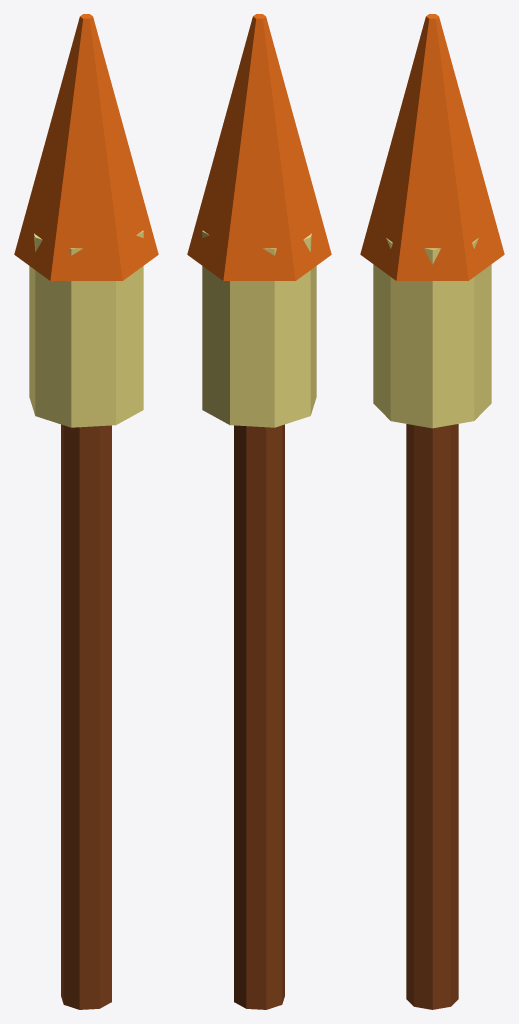
The model's file is torch.fbx.
3 renders of one model, left to right at view 1: azimuth 30°, elevation 25°; view 2: azimuth 150°, elevation 25°; view 3: azimuth 270°, elevation 25°, orthographic.
Parts seen in each view (by area): view 1: Torch; view 2: Torch; view 3: Torch.
Boxes of the visible parts, <box> form: Torch: <box>14,14,158,1009</box>; Torch: <box>187,14,331,1009</box>; Torch: <box>360,14,504,1009</box>.
Bounding box in the file's own units: 0.3811 × 3.3 × 0.44.
Materials: 1 (1 with a texture image).
